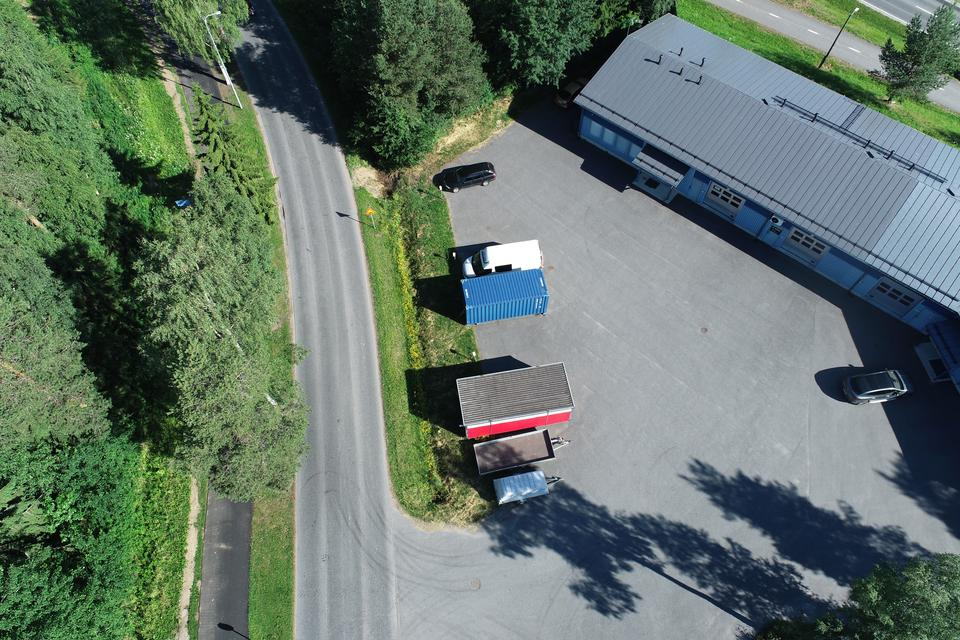intersection: (270, 449, 446, 640)
